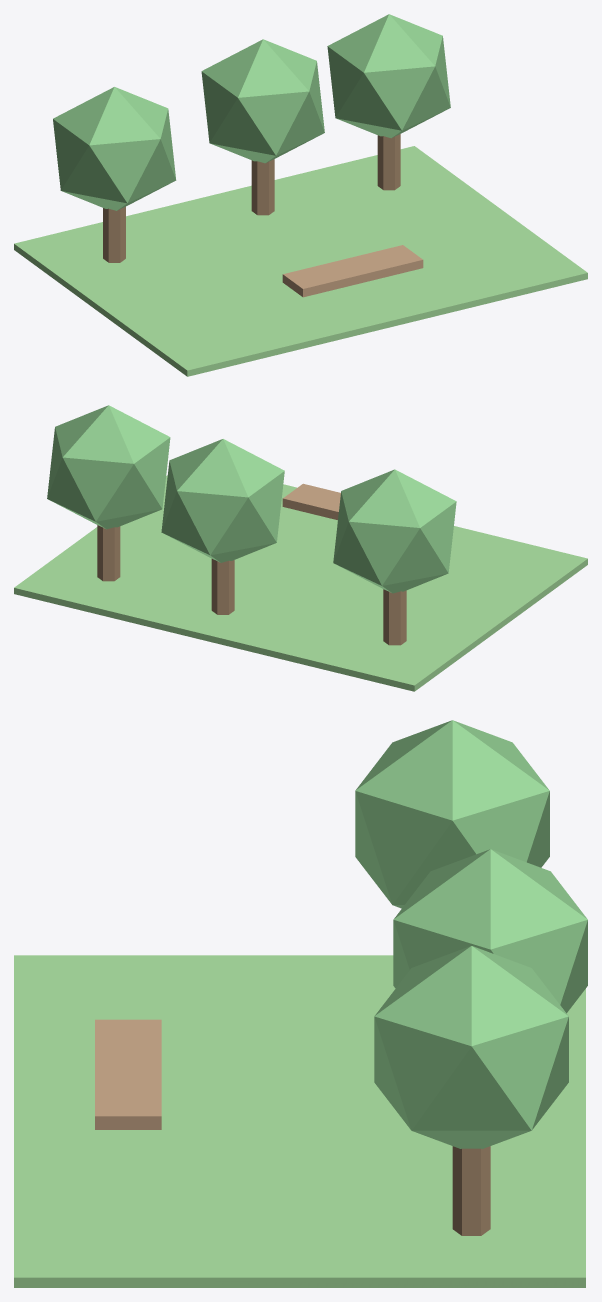
Rendered from parque.glb.
3 views of the same model, one above another, from view 1: azimuth 30°, elevation 25°; view 2: azimuth 150°, elevation 25°; view 3: azimuth 270°, elevation 25° (orthographic). The views are drawn at different scales.
Parts seen in each view (by area): view 1: Cesped, Icosphere.001, Icosphere.002, Icosphere, Banco, Cylinder.001, Cylinder.002, Cylinder; view 2: Cesped, Icosphere, Icosphere.001, Icosphere.002, Banco, Cylinder.001, Cylinder, Cylinder.002; view 3: Cesped, Icosphere.001, Icosphere, Icosphere.002, Banco, Cylinder.001.
Boxes of the visible parts, left/top/right/bottom form: Cesped: left=14, top=146, right=587, bottom=376; Icosphere.001: left=327, top=14, right=450, bottom=138; Icosphere.002: left=201, top=39, right=324, bottom=163; Icosphere: left=53, top=87, right=176, bottom=210; Banco: left=282, top=245, right=423, bottom=297; Cylinder.001: left=377, top=134, right=400, bottom=190; Cylinder.002: left=251, top=159, right=274, bottom=215; Cylinder: left=103, top=206, right=125, bottom=262; Cesped: left=14, top=475, right=587, bottom=691; Icosphere: left=333, top=469, right=456, bottom=593; Icosphere.001: left=47, top=405, right=170, bottom=529; Icosphere.002: left=161, top=439, right=284, bottom=562; Banco: left=282, top=483, right=340, bottom=520; Cylinder.001: left=97, top=525, right=120, bottom=581; Cylinder: left=383, top=589, right=406, bottom=645; Cylinder.002: left=211, top=559, right=234, bottom=614; Cesped: left=14, top=955, right=585, bottom=1287; Icosphere.001: left=374, top=946, right=568, bottom=1148; Icosphere: left=355, top=720, right=549, bottom=908; Icosphere.002: left=393, top=849, right=587, bottom=1013; Banco: left=95, top=1019, right=161, bottom=1129; Cylinder.001: left=452, top=1146, right=490, bottom=1235.
Bounding box in the file's own units: 4 × 1.7 × 3.01.
